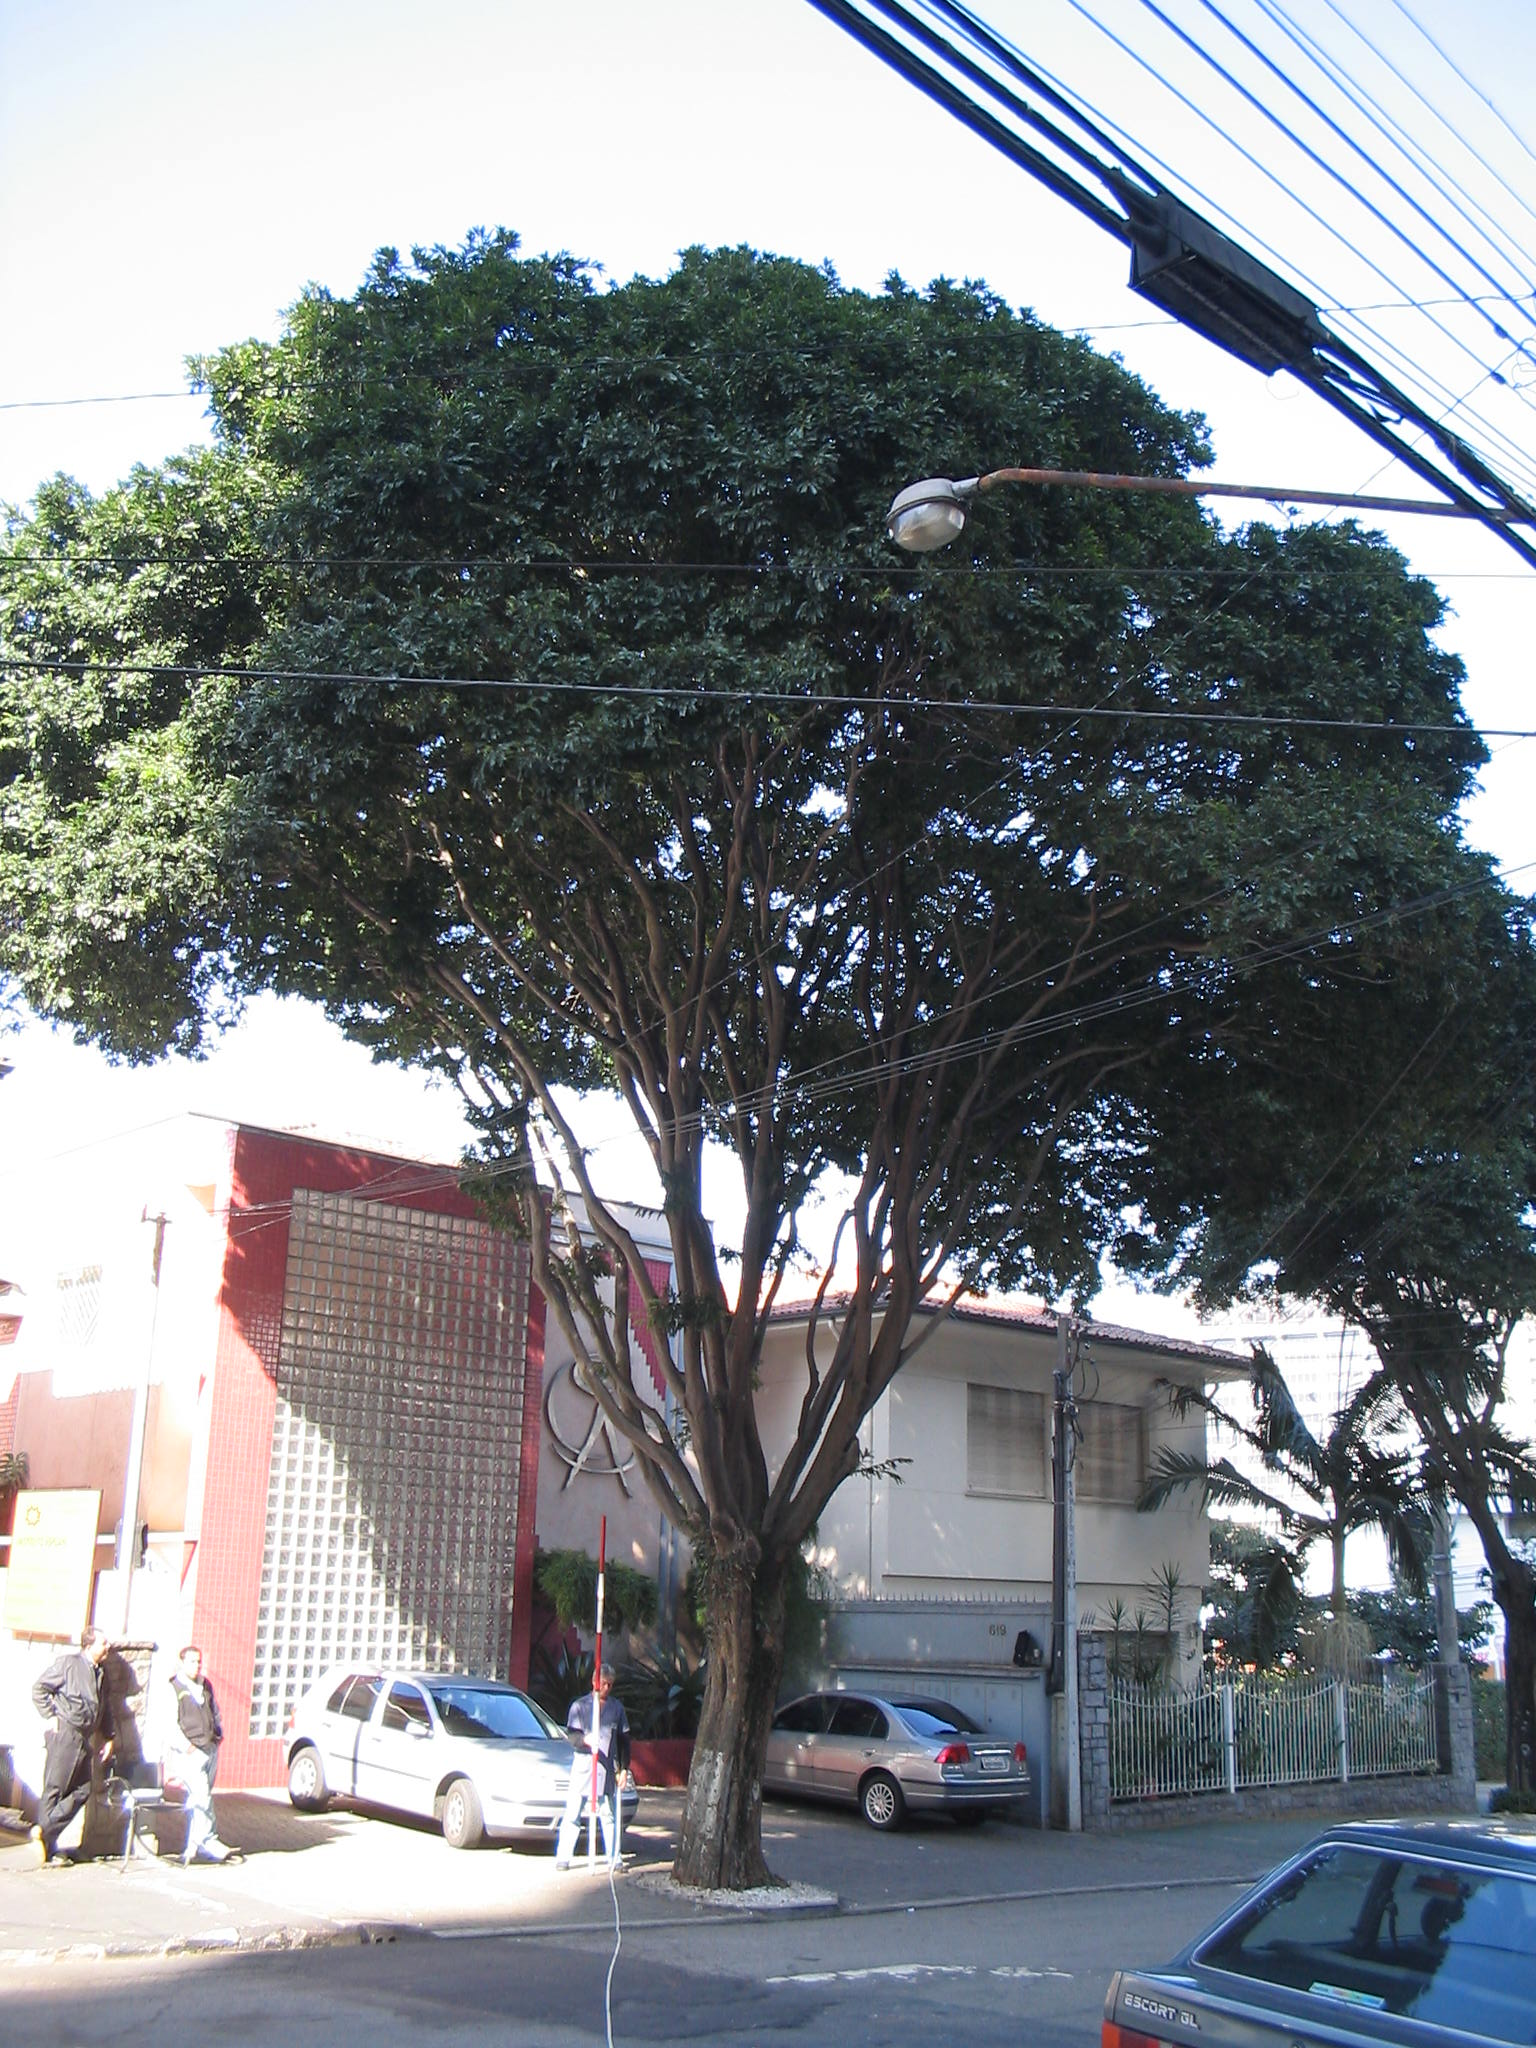crown: (2, 227, 1486, 1084), (1108, 866, 1536, 1363)
stem: (653, 1546, 831, 1892), (1415, 1479, 1536, 1808)
stick: (573, 1514, 626, 1875)
tree: (2, 218, 1488, 1896), (1104, 863, 1536, 1811)
